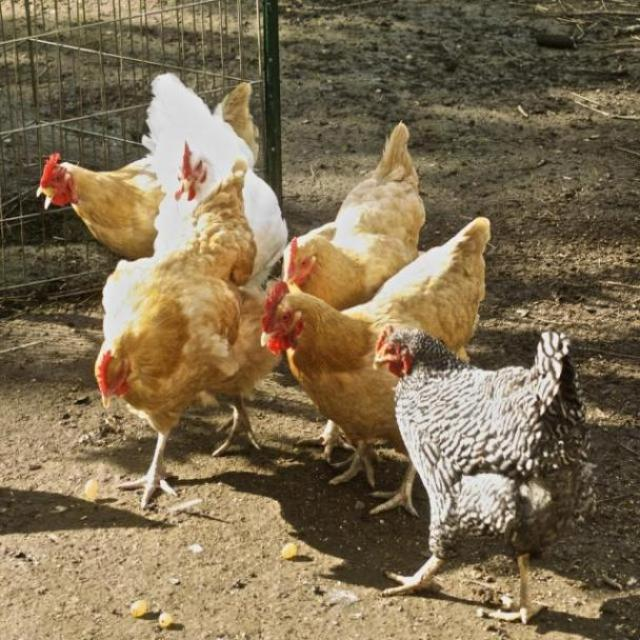Chicken: (247, 222, 498, 525), (97, 157, 287, 517), (379, 288, 586, 604), (272, 120, 426, 463), (32, 80, 265, 262), (139, 69, 293, 298)
